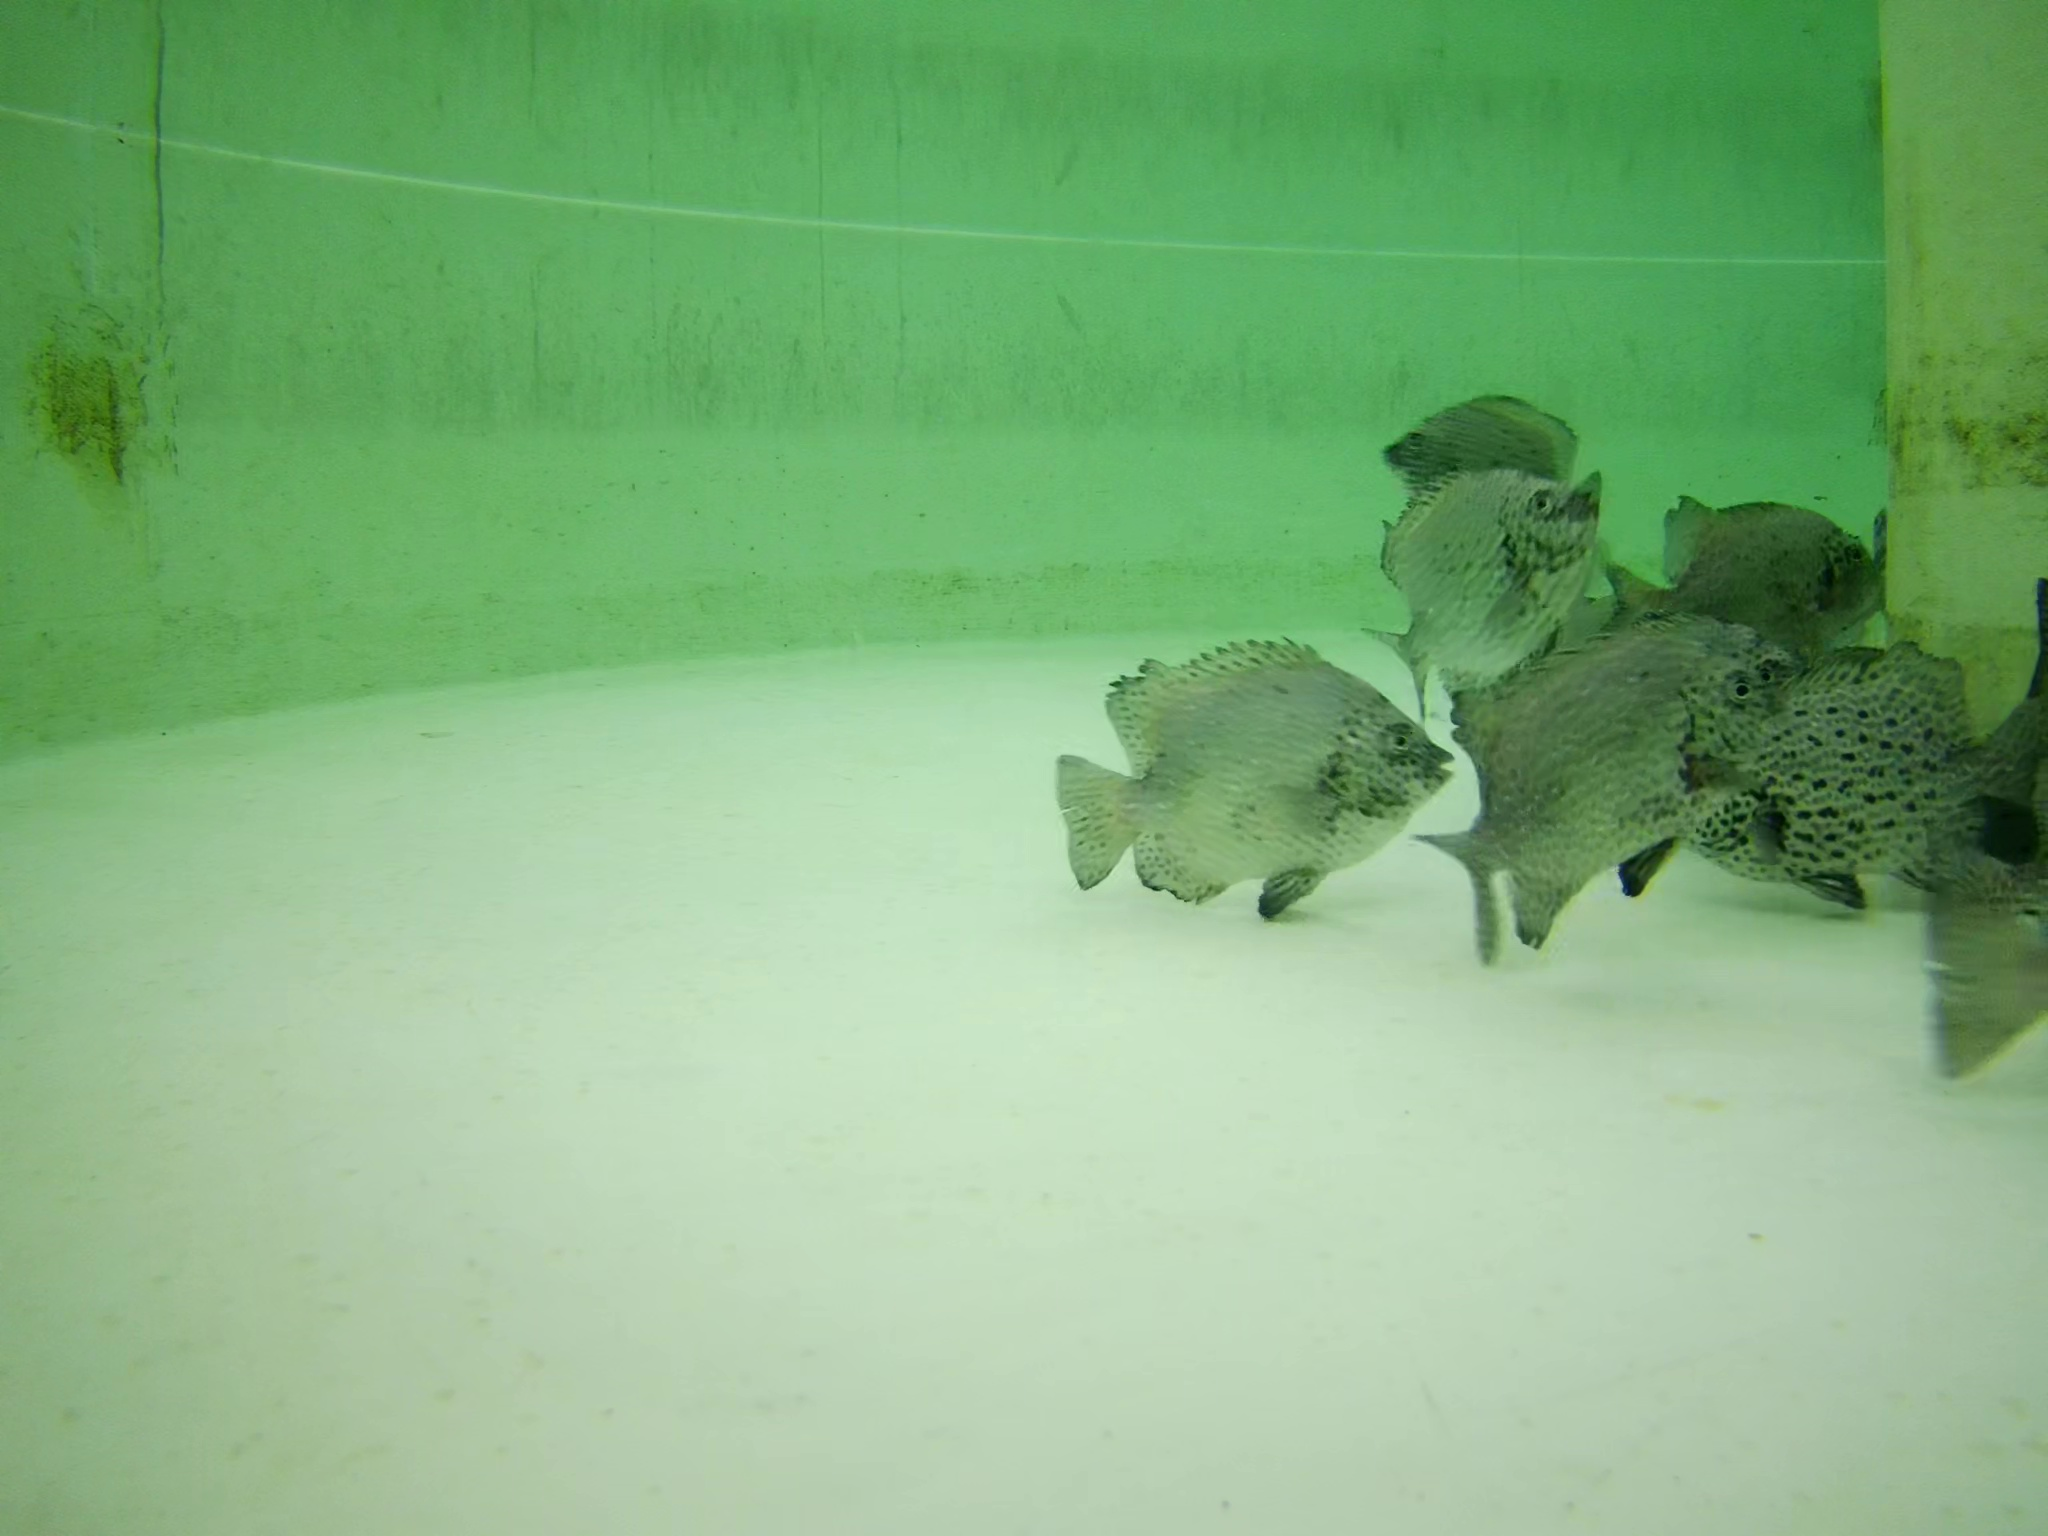fish: (1447, 607, 1795, 933), (1048, 641, 1453, 913), (1640, 655, 2048, 891), (1366, 461, 1613, 691), (1606, 476, 1882, 660), (1377, 390, 1585, 529)
